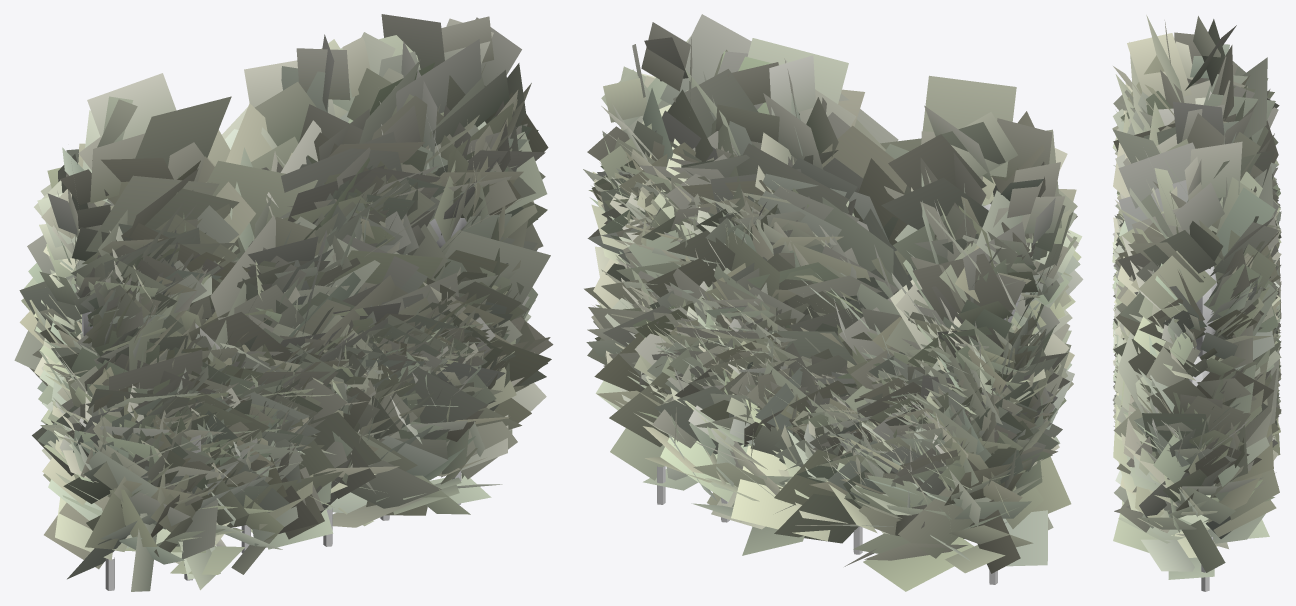
Rendered from hedge_tall.glb.
The picture shows the model from 3 angles, left to right: view 1: azimuth 30°, elevation 25°; view 2: azimuth 150°, elevation 25°; view 3: azimuth 270°, elevation 25°; orthographic projection. The views are drawn at different scales.
Parts seen in each view (by area): view 1: hedge_tall; view 2: hedge_tall; view 3: hedge_tall.
Part boxes in pixels (left/top/right/bottom): hedge_tall: left=14, top=14, right=553, bottom=591; hedge_tall: left=583, top=14, right=1083, bottom=591; hedge_tall: left=1112, top=15, right=1281, bottom=591.
Bounding box in the file's own units: 3.72 × 3.85 × 1.37.
